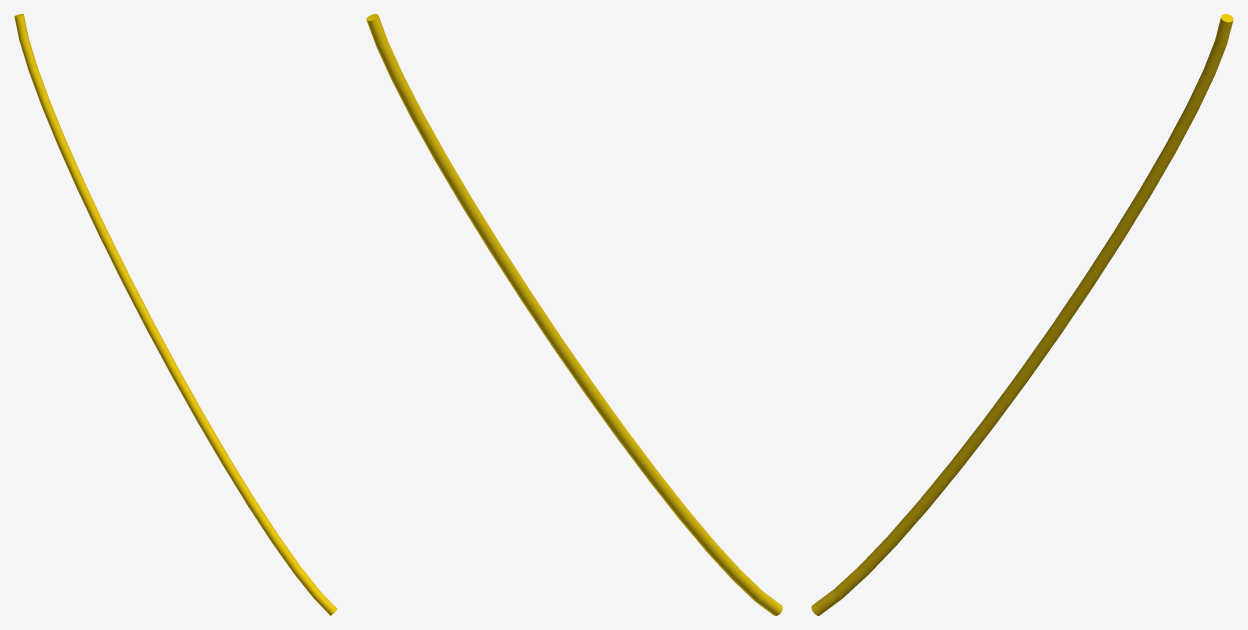
The model's file is Event_421127236_track_15.fbx.
3 views of the same model, side by side, from view 1: azimuth 90°, elevation 25°; view 2: azimuth 150°, elevation 25°; view 3: azimuth 270°, elevation 25° (orthographic). The views are drawn at different scales.
Parts seen in each view (by area): view 1: Model; view 2: Model; view 3: Model.
Boxes of the visible parts, <box> form: Model: <box>14,14,337,615</box>; Model: <box>366,14,782,615</box>; Model: <box>811,14,1233,615</box>.
Bounding box in the file's own units: 0.7352 × 2.39 × 1.32.
